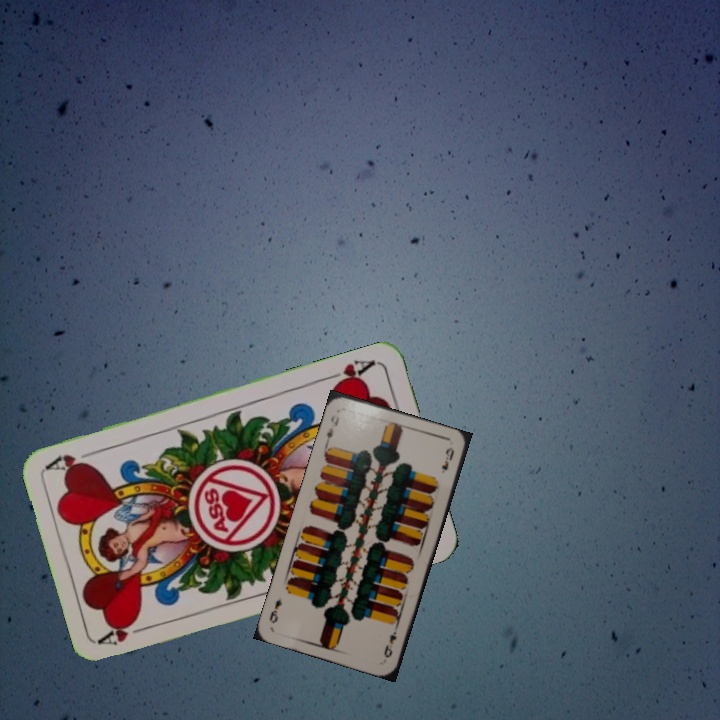E9: (379, 623, 400, 660), (322, 412, 342, 447)
HA: (321, 355, 379, 392), (96, 615, 155, 648)
